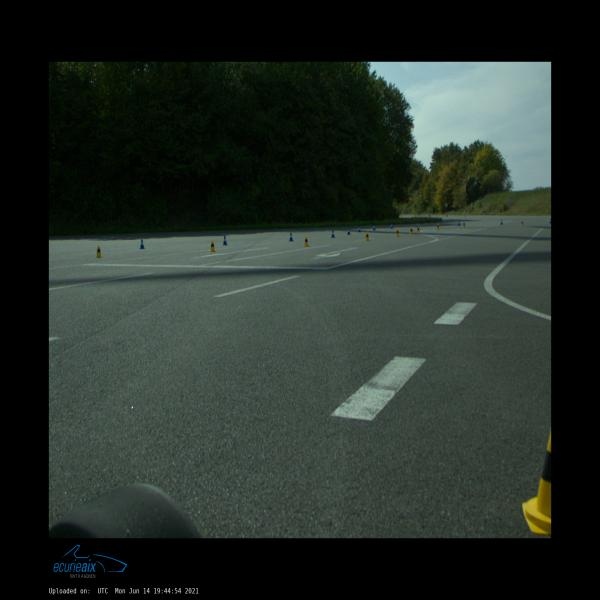blue_cone: (140, 239, 145, 249), (223, 236, 228, 245), (289, 232, 293, 241), (331, 230, 335, 238), (347, 228, 351, 234), (373, 225, 376, 230), (358, 227, 361, 232), (500, 220, 503, 224), (390, 224, 393, 228), (458, 220, 460, 225), (416, 223, 418, 227), (550, 218, 551, 224)
yellow_cone: (521, 429, 551, 535), (96, 245, 102, 258), (210, 241, 216, 252), (304, 236, 309, 247), (365, 232, 370, 241), (396, 228, 399, 236), (410, 227, 413, 234), (521, 220, 524, 226), (436, 224, 439, 230), (417, 226, 420, 232), (463, 222, 465, 227)
